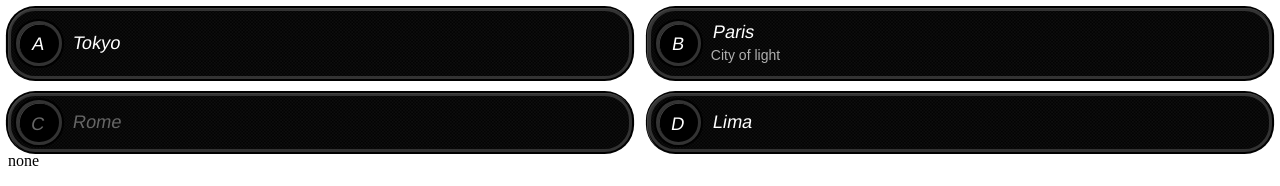
Test: ChoiceGroup › single controlled
Expected: the text "none" is shown, [8, 152, 39, 169]
Click the radio button labelled "Lima" at (679, 123), box [648, 93, 1272, 152]
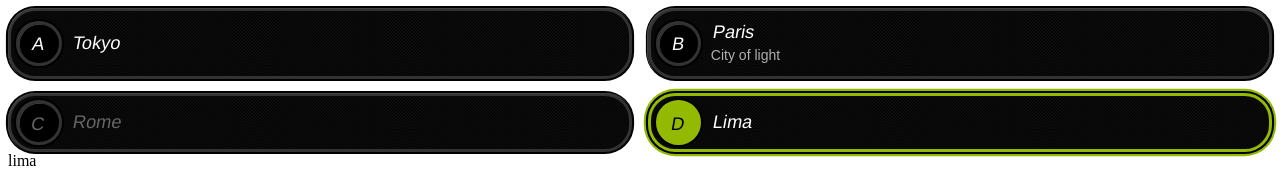
Expected: the text "lima" is shown, [8, 152, 36, 169]
